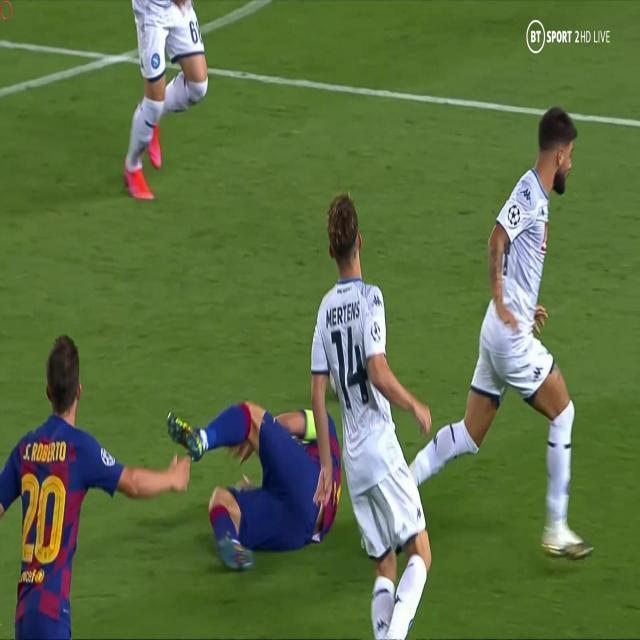player: (422, 94, 600, 564), (275, 205, 454, 640), (0, 339, 175, 635), (147, 362, 381, 570), (115, 0, 214, 194)
